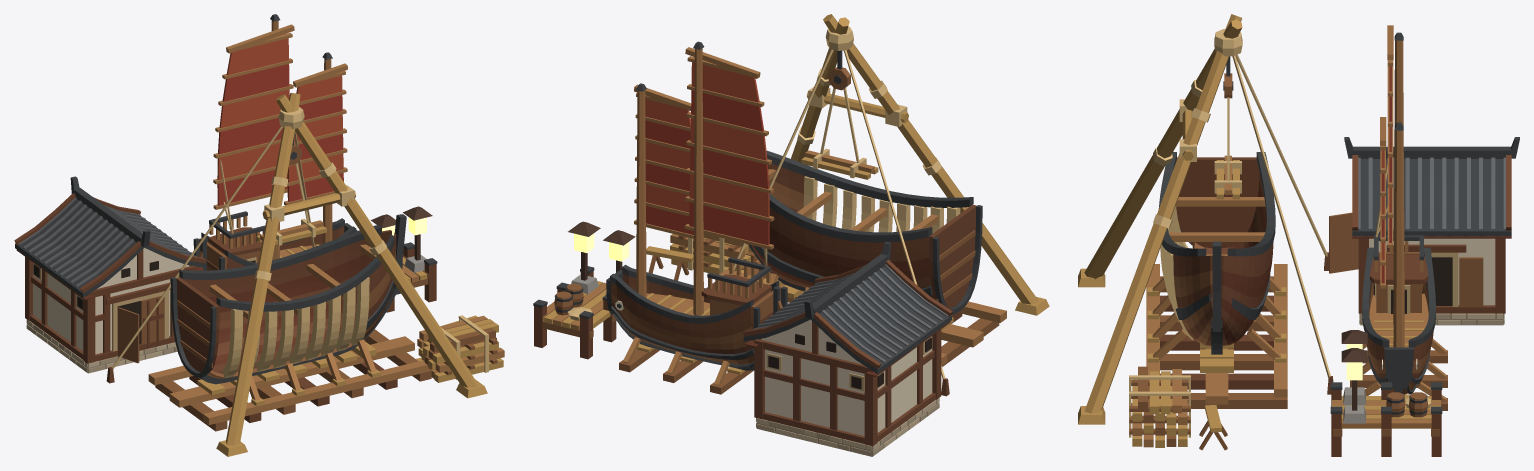
Rendered from shipyard_port.glb.
3 views of the same model, side by side, from view 1: azimuth 30°, elevation 25°; view 2: azimuth 150°, elevation 25°; view 3: azimuth 270°, elevation 25° (orthographic). The views are drawn at different scales.
Parts seen in each view (by area): view 1: shipyard_port_SP_Wood, shipyard_port_SP_WoodLight, shipyard_port_SP_Pole, shipyard_port_SP_Tar, shipyard_port_SP_WoodMid, shipyard_port_SP_RibPale, shipyard_port_SP_SailLight, shipyard_port_SP_Sail, shipyard_port_SP_RoofCharcoal, shipyard_port_SP_Rib, shipyard_port_SP_RoofCharcoalEdge, shipyard_port_SP_Plaster (+7 smaller); view 2: shipyard_port_SP_Wood, shipyard_port_SP_WoodLight, shipyard_port_SP_Tar, shipyard_port_SP_WoodMid, shipyard_port_SP_Plaster, shipyard_port_SP_Sail, shipyard_port_SP_SailLight, shipyard_port_SP_RoofCharcoal, shipyard_port_SP_Pole, shipyard_port_SP_RoofCharcoalEdge, shipyard_port_SP_Rope, shipyard_port_SP_Rib (+8 smaller); view 3: shipyard_port_SP_Wood, shipyard_port_SP_WoodLight, shipyard_port_SP_WoodMid, shipyard_port_SP_Pole, shipyard_port_SP_RoofCharcoal, shipyard_port_SP_Tar, shipyard_port_SP_Rib, shipyard_port_SP_Rope, shipyard_port_SP_RoofCharcoalEdge, shipyard_port_SP_TimberDark, shipyard_port_SP_Plaster, shipyard_port_SP_DeepArch (+7 smaller).
Boxes of the visible parts, left/top/right/bottom form: shipyard_port_SP_Wood: left=14, top=193, right=436, bottom=422; shipyard_port_SP_WoodLight: left=148, top=20, right=504, bottom=424; shipyard_port_SP_Pole: left=226, top=93, right=477, bottom=445; shipyard_port_SP_Tar: left=170, top=14, right=437, bottom=384; shipyard_port_SP_WoodMid: left=118, top=144, right=497, bottom=431; shipyard_port_SP_RibPale: left=222, top=277, right=369, bottom=378; shipyard_port_SP_SailLight: left=217, top=38, right=343, bottom=182; shipyard_port_SP_Sail: left=217, top=64, right=343, bottom=205; shipyard_port_SP_RoofCharcoal: left=15, top=176, right=205, bottom=297; shipyard_port_SP_Rib: left=197, top=226, right=503, bottom=456; shipyard_port_SP_RoofCharcoalEdge: left=18, top=197, right=196, bottom=287; shipyard_port_SP_Plaster: left=33, top=248, right=189, bottom=354; shipyard_port_SP_Wood: left=534, top=163, right=976, bottom=446; shipyard_port_SP_WoodLight: left=542, top=47, right=1006, bottom=385; shipyard_port_SP_Tar: left=533, top=41, right=982, bottom=370; shipyard_port_SP_WoodMid: left=543, top=67, right=999, bottom=394; shipyard_port_SP_Plaster: left=761, top=319, right=932, bottom=435; shipyard_port_SP_Sail: left=645, top=90, right=769, bottom=245; shipyard_port_SP_SailLight: left=645, top=62, right=769, bottom=217; shipyard_port_SP_RoofCharcoal: left=743, top=241, right=951, bottom=374; shipyard_port_SP_Pole: left=791, top=14, right=1038, bottom=304; shipyard_port_SP_RoofCharcoalEdge: left=753, top=264, right=948, bottom=362; shipyard_port_SP_Rope: left=567, top=26, right=945, bottom=378; shipyard_port_SP_Rib: left=544, top=157, right=1049, bottom=374; shipyard_port_SP_Wood: left=1160, top=155, right=1511, bottom=456; shipyard_port_SP_WoodLight: left=1132, top=25, right=1446, bottom=447; shipyard_port_SP_WoodMid: left=1129, top=73, right=1483, bottom=450; shipyard_port_SP_Pole: left=1084, top=14, right=1242, bottom=413; shipyard_port_SP_RoofCharcoal: left=1344, top=137, right=1519, bottom=236; shipyard_port_SP_Tar: left=1158, top=32, right=1442, bottom=414; shipyard_port_SP_Rib: left=1078, top=160, right=1441, bottom=447; shipyard_port_SP_Rope: left=1129, top=29, right=1430, bottom=437; shipyard_port_SP_RoofCharcoalEdge: left=1358, top=157, right=1505, bottom=230; shipyard_port_SP_TimberDark: left=1221, top=182, right=1272, bottom=344; shipyard_port_SP_Plaster: left=1369, top=238, right=1495, bottom=305; shipyard_port_SP_DeepArch: left=1391, top=257, right=1452, bottom=313.
Bounding box in the file's own units: 4.11 × 3.38 × 3.88.
